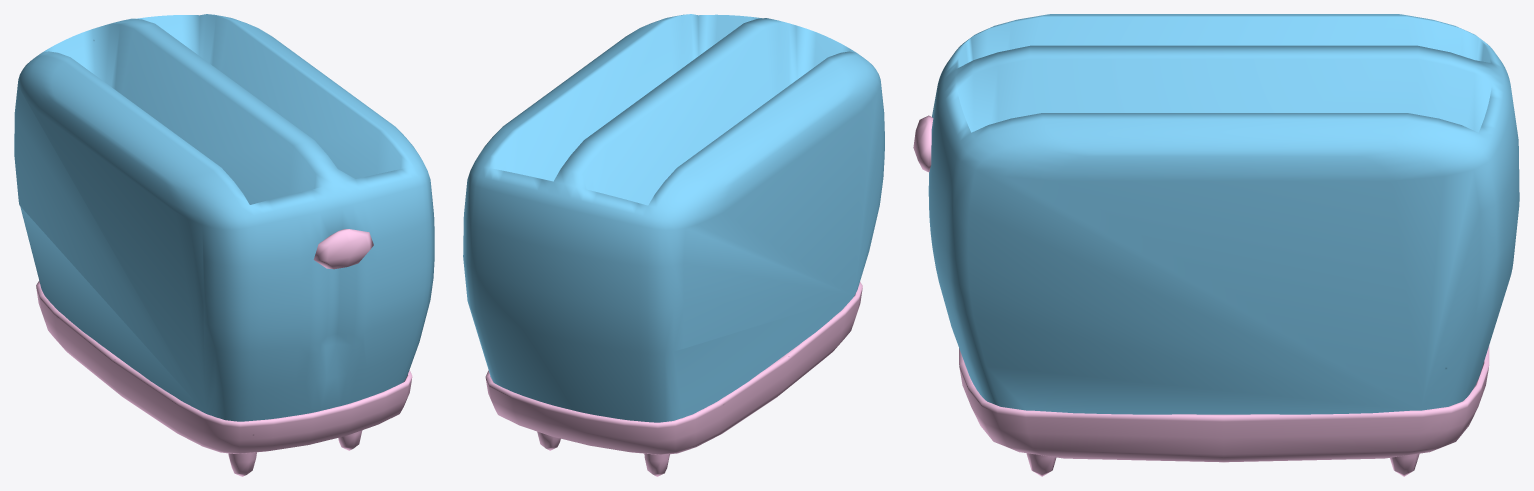
File: toster2.1.fbx
3 renders of one model, left to right at view 1: azimuth 30°, elevation 25°; view 2: azimuth 150°, elevation 25°; view 3: azimuth 270°, elevation 25°, orthographic. The views are drawn at different scales.
Parts seen in each view (by area): view 1: body.001, legs.002, arm.002; view 2: body.001, legs.002; view 3: body.001, legs.002, arm.002.
Part boxes in pixels (x1,y1,x2,y2): body.001: [14, 14, 434, 421]; legs.002: [36, 280, 412, 476]; arm.002: [313, 229, 373, 269]; body.001: [463, 14, 884, 422]; legs.002: [485, 282, 862, 476]; body.001: [928, 14, 1519, 414]; legs.002: [959, 345, 1489, 476]; arm.002: [913, 115, 933, 172].
Size of the model in its own units: 253 by 335 by 466.
1 material, 1 textured.
